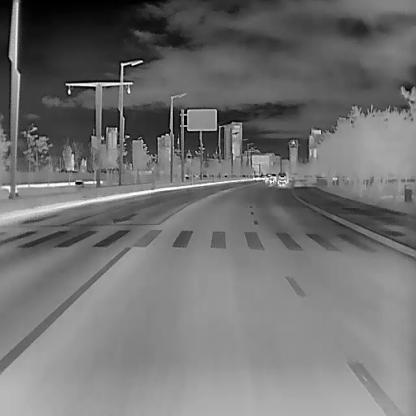car: (264, 173, 272, 185), (278, 174, 286, 185), (270, 173, 276, 183)
